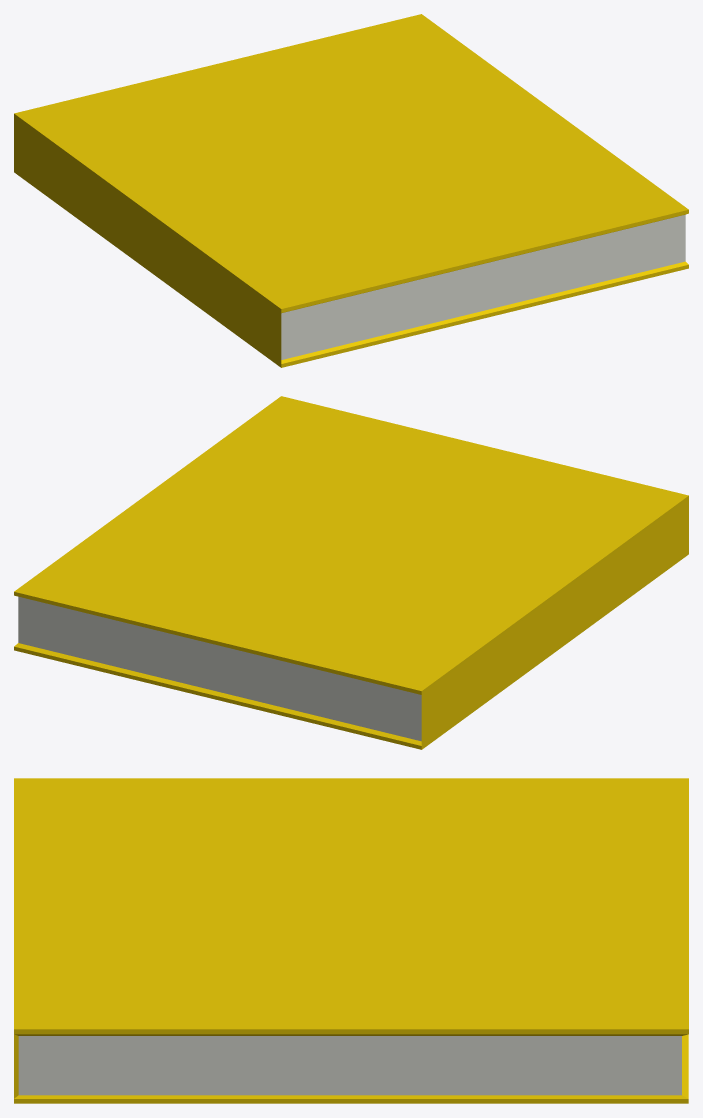
Rendered from yellow book.fbx.
3 renders of one model, top to bottom at view 1: azimuth 30°, elevation 25°; view 2: azimuth 150°, elevation 25°; view 3: azimuth 270°, elevation 25°, orthographic. The views are drawn at different scales.
Visible parts, largest first — view 1: book; view 2: book; view 3: book.
Part boxes in pixels (box(x1,y1,x2,y2)): book: box(14, 14, 688, 367); book: box(14, 396, 688, 749); book: box(14, 778, 688, 1103).
Bounding box in the file's own units: 179 × 24.7 × 203.
